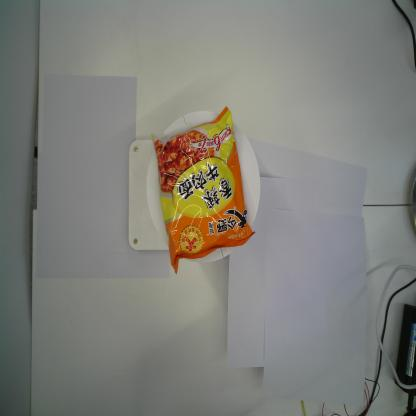Instant Noodles: (150, 106, 256, 275)
